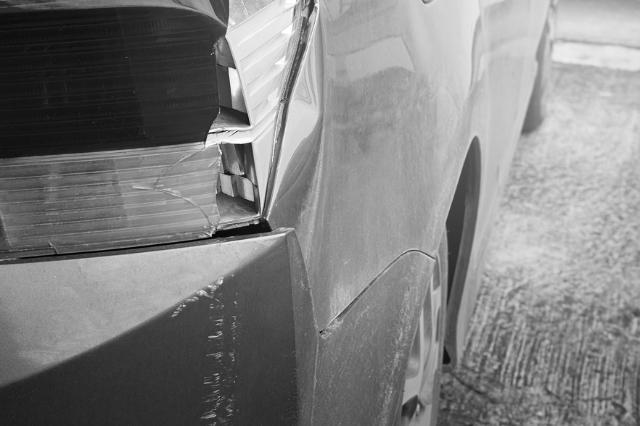Bumper: (156, 233, 315, 426)
Light: (3, 1, 312, 261)
